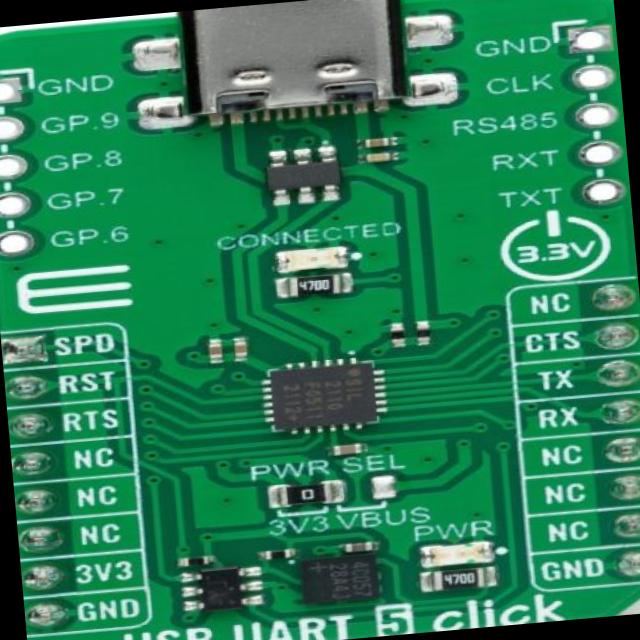IC: (266, 358, 386, 434), (262, 145, 345, 201), (300, 555, 382, 607), (184, 564, 267, 612)
LED: (276, 246, 354, 278), (424, 540, 503, 570)
capacitor: (326, 441, 365, 460), (342, 540, 385, 554), (360, 135, 398, 148), (364, 152, 400, 163), (210, 339, 226, 360), (234, 338, 250, 359)
connector: (152, 0, 450, 123)
resistor: (278, 479, 340, 508), (284, 272, 346, 301), (432, 568, 486, 590), (269, 546, 300, 562), (181, 556, 211, 570), (390, 326, 408, 346), (416, 324, 432, 344)
